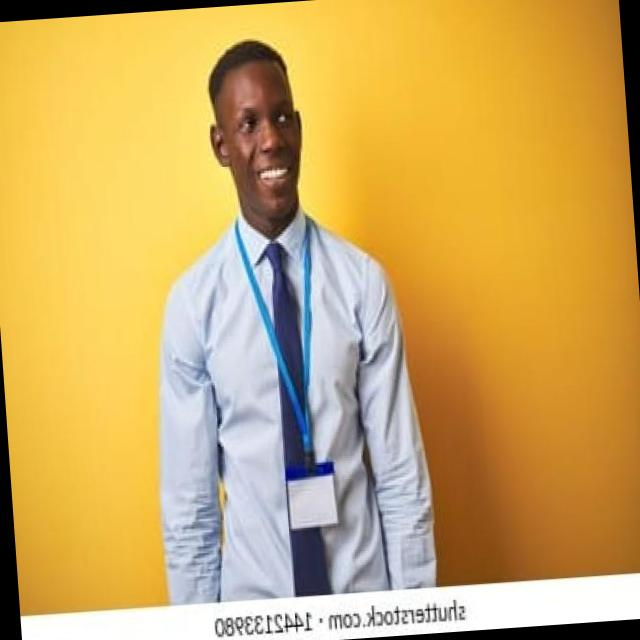id_card: (241, 224, 339, 532)
